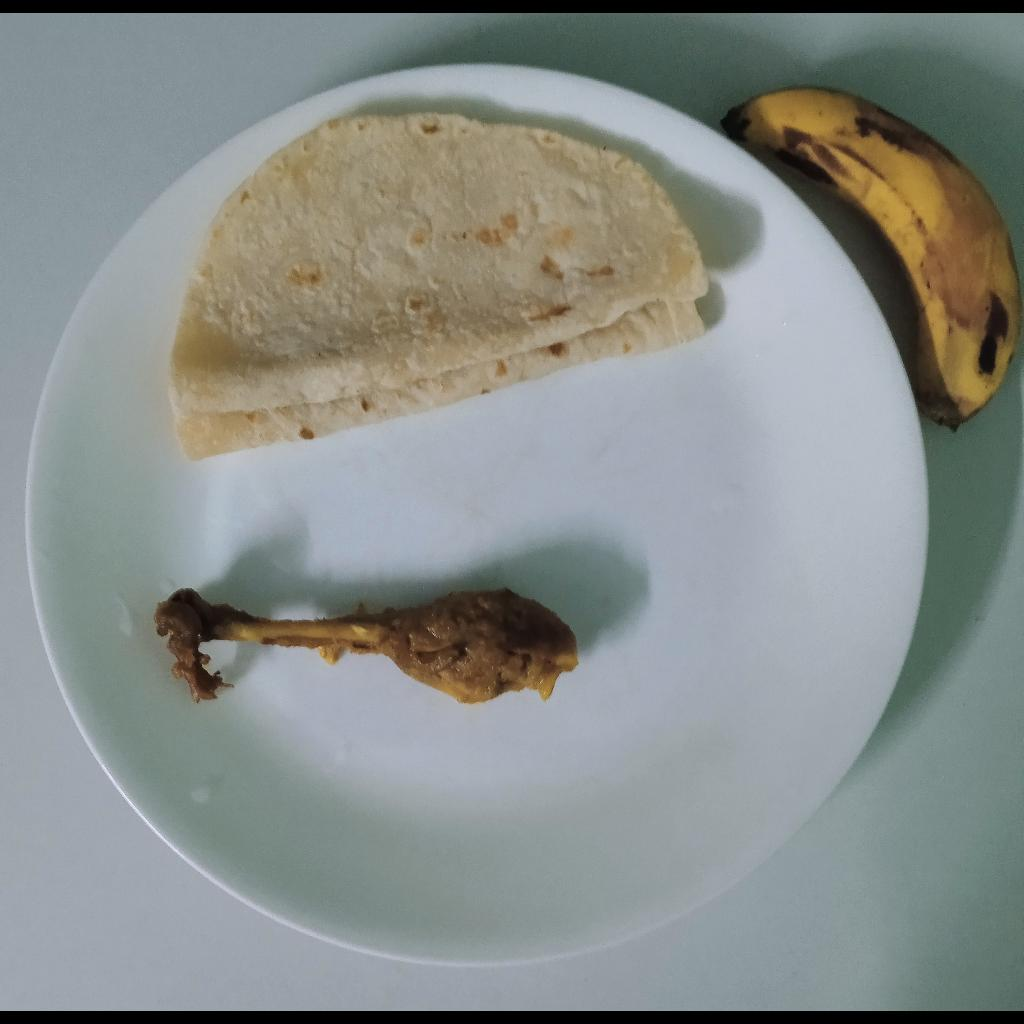banana: (720, 89, 1021, 429)
chicken: (155, 588, 579, 707)
ruti: (170, 113, 712, 463)
